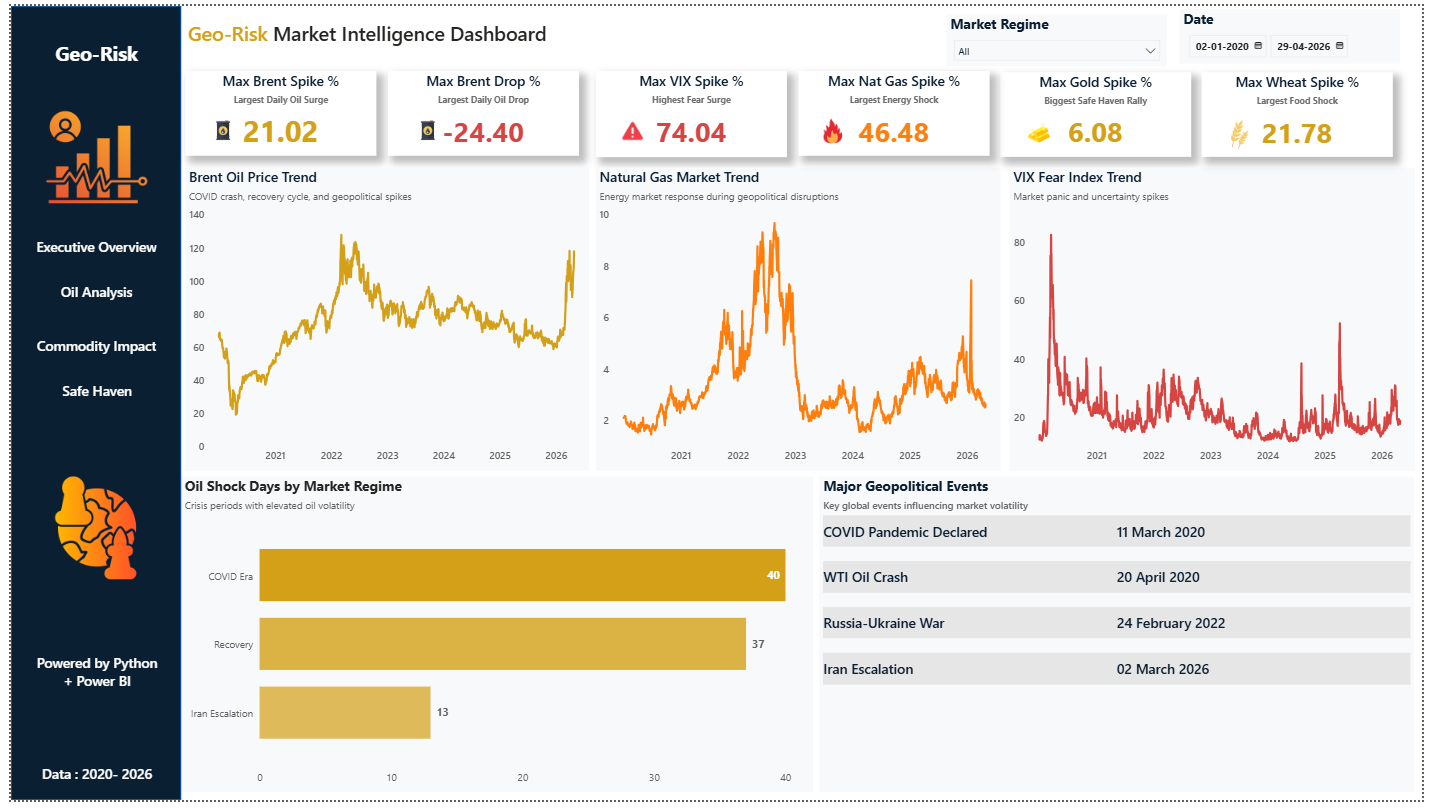

This screenshot's page, from the dashboard's own definition file:
{"tool":"powerbi","page":{"name":"Page 1","canvas":[1920,1080],"ordinal":0},"visuals":[{"type":"group","id":"g1","title":"Group 1","box":[237.1,88.6,260,115.7],"z":0},{"type":"card","title":"Max Brent Spike %","fields":{"Values":["Sum(kpi_summary.Value)"]},"box":[237.1,88.6,260,115],"z":0,"group":"g1"},{"type":"card","title":"Max Brent Drop %","fields":{"Values":["Sum(kpi_summary.Value)"]},"box":[512.3,88.8,260,115.4],"z":1,"group":"g2"},{"type":"card","title":"Max VIX Spike %","fields":{"Values":["Sum(kpi_summary.Value)"]},"box":[795.2,88.8,260,117],"z":2,"group":"g3"},{"type":"card","title":"Max Gold Spike %","fields":{"Values":["Sum(kpi_summary.Value)"]},"box":[1345.7,90,260,115],"z":4,"group":"g4"},{"type":"image","box":[271.9,155.8,34.7,26.5],"z":5,"group":"g1"},{"type":"image","box":[549.6,156,34.7,26.6],"z":7,"group":"g2"},{"type":"image","box":[825.5,150.9,39.8,41.1],"z":9,"group":"g3"},{"type":"image","box":[1374.1,155.2,48.4,34.6],"z":13,"group":"g4"},{"type":"group","id":"g2","title":"Group 2","box":[512.3,88.8,260,115.4],"z":1000},{"type":"group","id":"g3","title":"Group 3","box":[795.2,88.8,260,115.4],"z":2000},{"type":"group","id":"g4","title":"Group 5","box":[1345.7,90,260,115],"z":3000},{"type":"lineChart","title":"Brent Oil Price Trend","fields":{"Category":["master_market_features.Date"],"Y":["Sum(master_market_features.Brent)"]},"box":[237.2,219.4,549.1,412.2],"z":4000},{"type":"textbox","box":[235.1,14,860.8,53.2],"z":5000},{"type":"lineChart","title":"Natural Gas Market Trend","fields":{"Category":["master_market_features.Date"],"Y":["Sum(master_market_features.NaturalGas)"]},"box":[796.4,219.4,550.4,412.2],"z":6000},{"type":"lineChart","title":"VIX Fear Index Trend","fields":{"Category":["master_market_features.Date"],"Y":["Sum(master_market_features.VIX)"]},"box":[1358.2,219.4,551.7,412.2],"z":7000},{"type":"clusteredBarChart","title":"Oil Shock Days by Market Regime","fields":{"Y":["Sum(shock_summary.Shock_Days)"],"Category":["shock_summary.Market_Regime"]},"box":[231.4,640.6,859.6,429.8],"z":8000},{"type":"shape","box":[0,0,231.4,1080],"z":9000},{"type":"textbox","box":[17.9,41.3,195.6,52.3],"z":10000},{"type":"actionButton","title":"Executive Overview","box":[17.1,311.4,198.6,31.4],"z":11000},{"type":"actionButton","title":"Oil Analysis","box":[32.9,371.4,167.1,34.3],"z":12000},{"type":"actionButton","title":"Equity Markets","box":[27.1,445.7,178.6,32.9],"z":13000},{"type":"actionButton","title":"Safe Haven","box":[52.9,507.1,128.6,32.9],"z":14000},{"type":"textbox","box":[20,1027.1,194.3,42.9],"z":15000},{"type":"textbox","box":[25.7,875.7,182.9,61.4],"z":16000},{"type":"slicer","title":"Market Regime","fields":{"Values":["master_market_features.Market_Regime"]},"box":[1272.9,11.4,300,70],"z":17000},{"type":"slicer","title":"Date","fields":{"Values":["master_market_features.Date"]},"box":[1590,4.3,300,74.3],"z":18000},{"type":"image","box":[31.4,135.7,171.4,140],"z":19000},{"type":"multiRowCard","title":"Major Geopolitical Events","fields":{"Values":["events.Event","events.Date"]},"box":[1100.7,640.6,808.6,429.8],"z":20000},{"type":"image","box":[30,640,170,140],"z":21000},{"type":"card","title":"Max Nat Gas Spike %","fields":{"Values":["correlation_matrix.Max Nat Gas Spike"]},"box":[1071.4,88.6,260,115.7],"z":22000},{"type":"card","title":"Max Wheat Spike %","fields":{"Values":["correlation_matrix.Max Wheat Spike"]},"box":[1620,90,260,115.7],"z":23000},{"type":"image","box":[1100,148.6,35.7,42.9],"z":24000},{"type":"image","box":[1652.9,155.7,38.6,38.6],"z":25000}]}

Visuals, with their boxes in screenshot pixels (x1, y1, x2, y2), scaled from the page's 1920x1080 canvas onto the 1433x811 screenshot:
"Group 1" group: 177 67 371 153
"Max Brent Spike %" card: 177 67 371 153
"Max Brent Drop %" card: 382 67 576 153
"Max VIX Spike %" card: 594 67 788 155
"Max Gold Spike %" card: 1004 68 1198 154
image: 203 117 229 137
image: 410 117 436 137
image: 616 113 646 144
image: 1026 117 1062 143
"Group 2" group: 382 67 576 153
"Group 3" group: 594 67 788 153
"Group 5" group: 1004 68 1198 154
"Brent Oil Price Trend" lineChart: 177 165 587 474
textbox: 175 11 818 50
"Natural Gas Market Trend" lineChart: 594 165 1005 474
"VIX Fear Index Trend" lineChart: 1014 165 1425 474
"Oil Shock Days by Market Regime" clusteredBarChart: 173 481 814 804
shape: 0 0 173 810
textbox: 13 31 159 70
"Executive Overview" actionButton: 13 234 161 257
"Oil Analysis" actionButton: 25 279 149 305
"Equity Markets" actionButton: 20 335 154 359
"Safe Haven" actionButton: 39 381 135 406
textbox: 15 771 160 803
textbox: 19 658 156 704
"Market Regime" slicer: 950 9 1174 61
"Date" slicer: 1187 3 1411 59
image: 23 102 151 207
"Major Geopolitical Events" multiRowCard: 822 481 1425 804
image: 22 481 149 586
"Max Nat Gas Spike %" card: 800 67 994 153
"Max Wheat Spike %" card: 1209 68 1403 154
image: 821 112 848 144
image: 1234 117 1262 146
